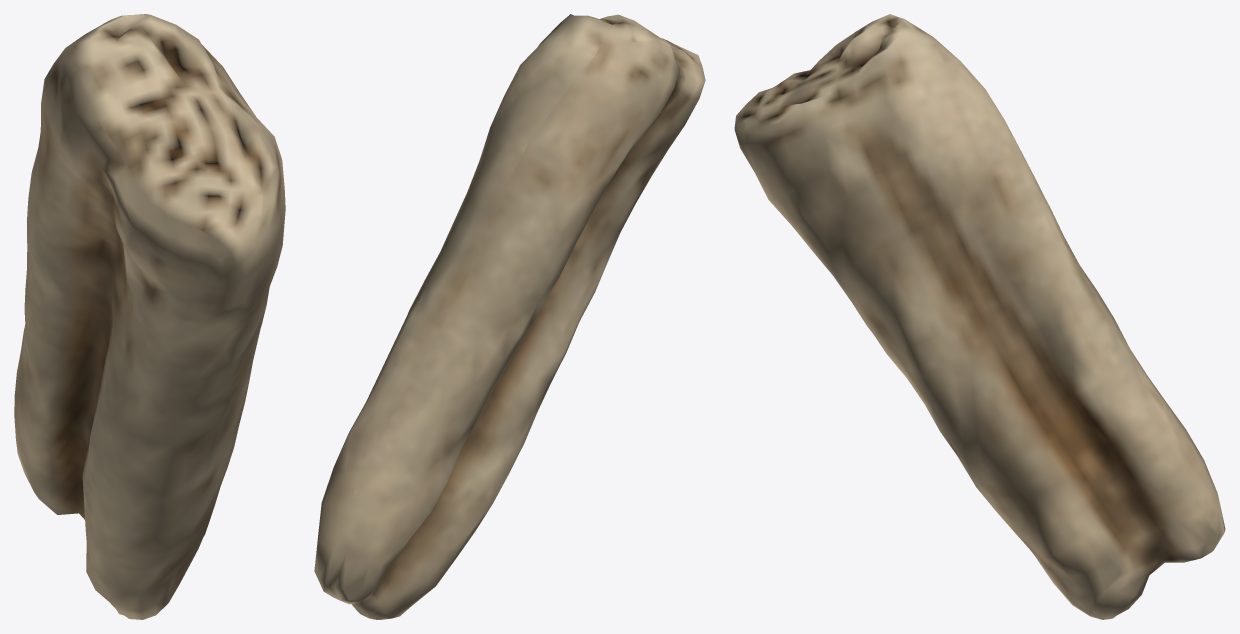
The model's file is Mandibular_Premolar4.glb.
3 views of the same model, side by side, from view 1: azimuth 30°, elevation 25°; view 2: azimuth 150°, elevation 25°; view 3: azimuth 270°, elevation 25° (orthographic). The views are drawn at different scales.
Parts seen in each view (by area): view 1: Mandibular_Premolar4.glb; view 2: Mandibular_Premolar4.glb; view 3: Mandibular_Premolar4.glb.
Part boxes in pixels (x1,y1,x2,y2): Mandibular_Premolar4.glb: (14,14,285,619); Mandibular_Premolar4.glb: (314,14,705,619); Mandibular_Premolar4.glb: (734,14,1225,619).
Size of the model in its own units: 0.0265 by 0.0657 by 0.0543.
Materials: 1 (1 with a texture image).
